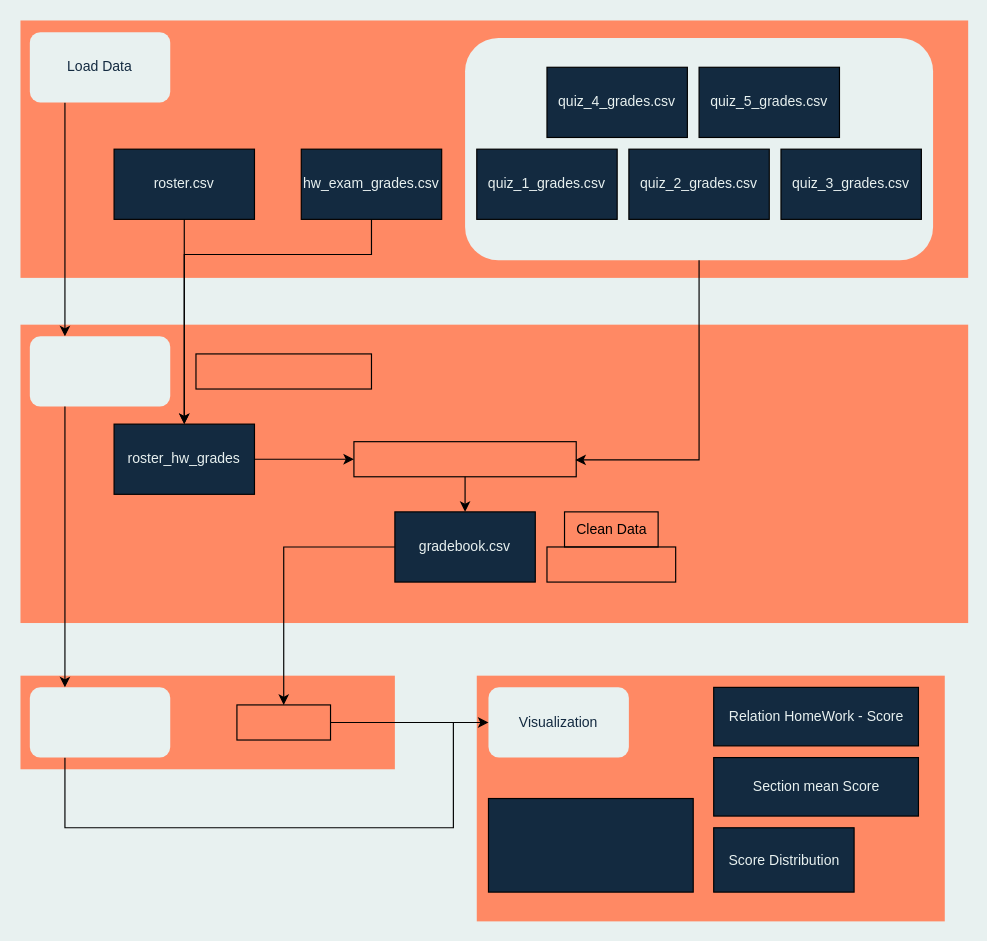
Some shapes in this 987 by 941 pixel diagram are drawn without their labels. The shapes that lost their labels are listed below. From the top down, each one's centre as x and y in pixels, then its label:
pixel 99 371: Process Data
pixel 283 371: Join with SID and NetID
pixel 464 459: Join First Name and Last Name
pixel 611 564: Calculate Scores
pixel 99 722: Export
pixel 283 722: Save CSV
pixel 590 844: Comparing between categories: Homework, Quizzes, Exams
